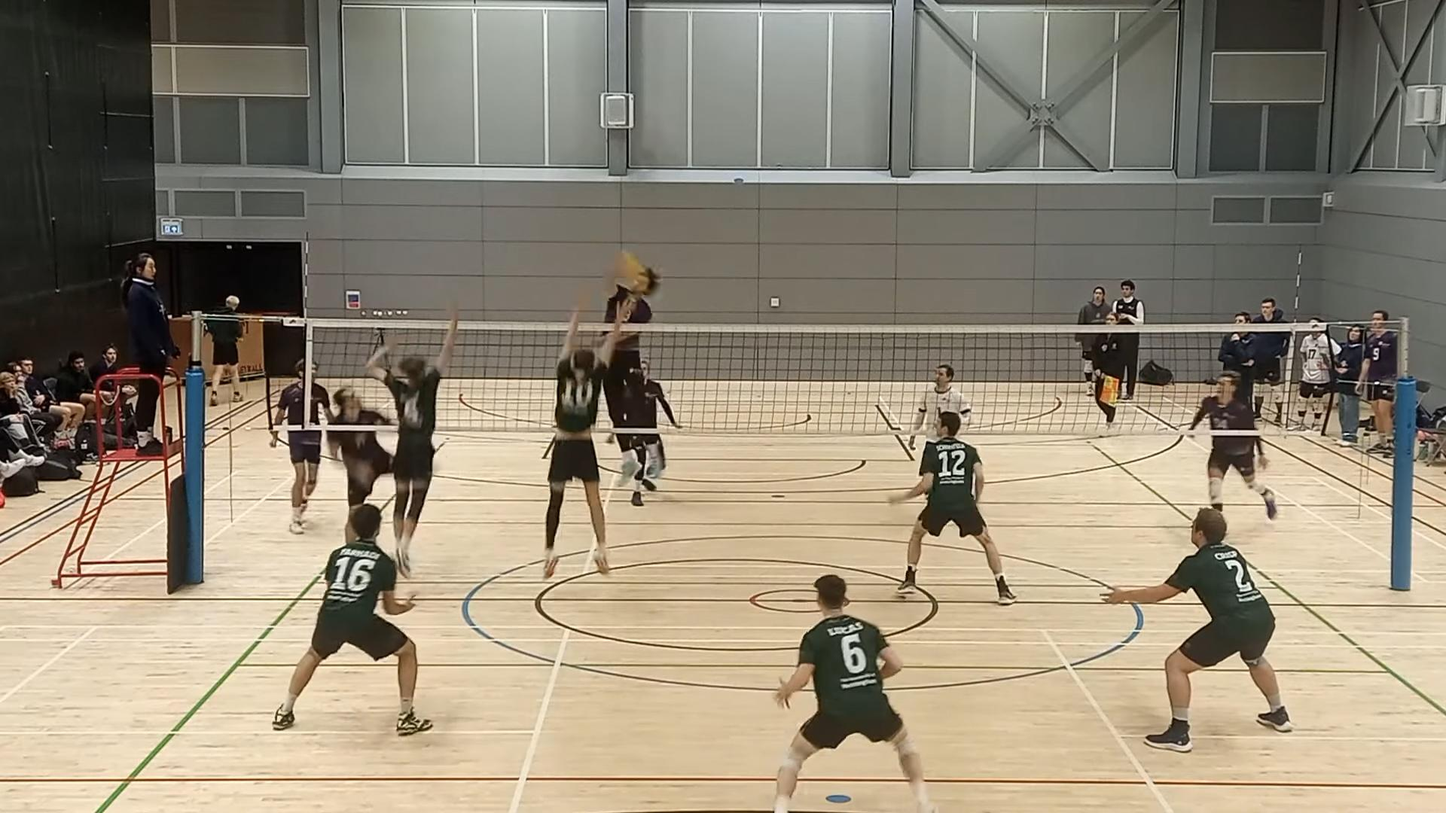Attack: (595, 240, 670, 490)
Block: (544, 302, 633, 569), (358, 306, 457, 546)
Player: (1105, 509, 1292, 751), (774, 574, 935, 812), (273, 504, 431, 735), (889, 412, 1015, 605), (1190, 372, 1277, 519), (619, 361, 679, 506), (909, 364, 971, 449), (328, 429, 392, 508), (203, 295, 243, 406), (274, 361, 328, 427)
